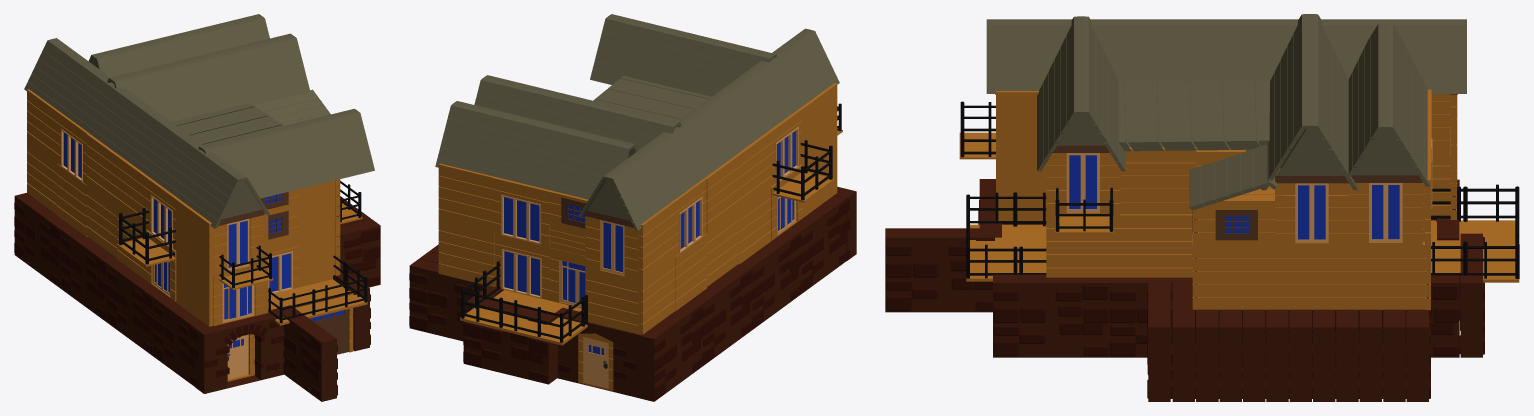
File: House_05.obj
The picture shows the model from 3 angles, left to right: view 1: azimuth 30°, elevation 25°; view 2: azimuth 150°, elevation 25°; view 3: azimuth 270°, elevation 25°; orthographic projection. The views are drawn at different scales.
Parts seen in each view (by area): view 1: House_05_Cube.008; view 2: House_05_Cube.008; view 3: House_05_Cube.008.
Boxes of the visible parts, box(x1,y1,x2,y2) form: House_05_Cube.008: box(14, 14, 380, 401); House_05_Cube.008: box(409, 14, 856, 401); House_05_Cube.008: box(885, 14, 1519, 401).
Size of the model in its own units: 16 by 12.2 by 26.59.
